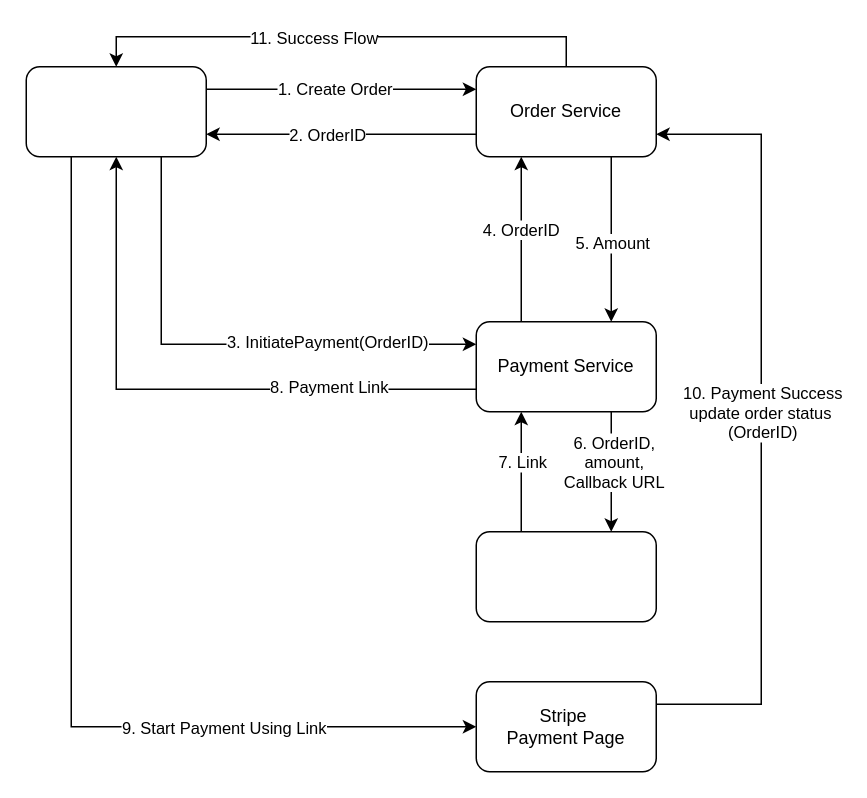
The diagram is 867 pixels wide and 798 high, and some of its shapes have lost their labels. The centre of each missing label's shape, as x and y in pixels:
Client: (115,111)
Stripe: (565,576)
